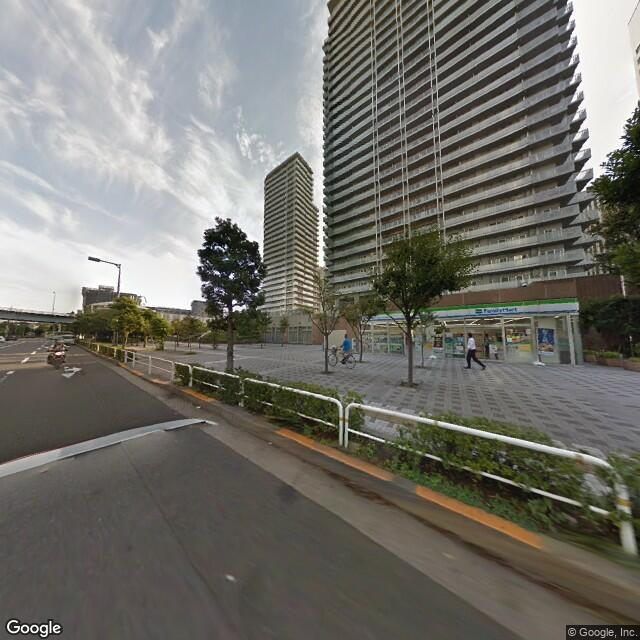family_mart: (363, 296, 580, 324), (472, 303, 524, 317)
